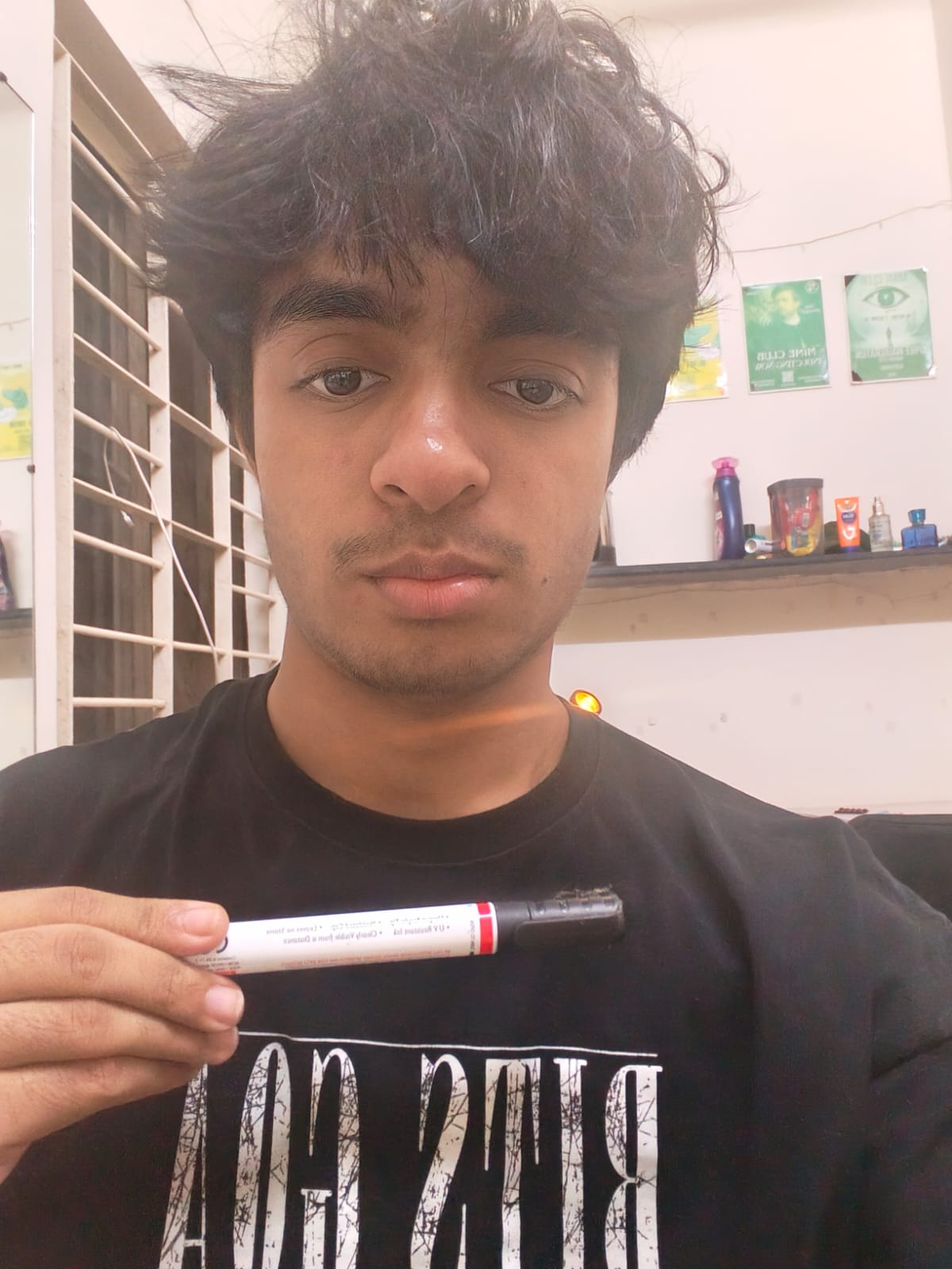case: (168, 875, 653, 977)
